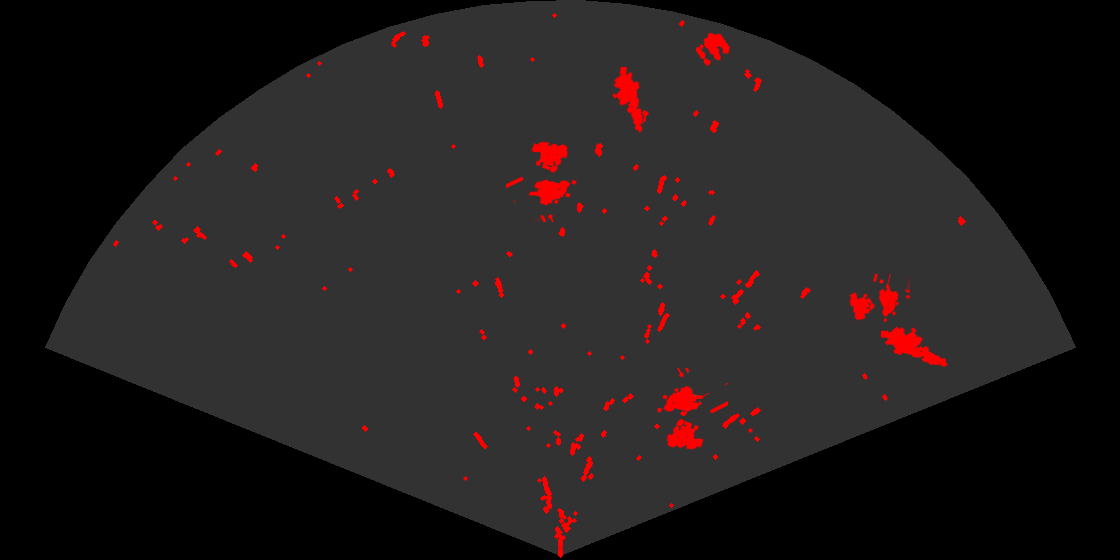ball: (694, 31, 732, 67)
cage: (656, 368, 728, 451), (506, 140, 578, 222), (848, 274, 910, 324)
frogman: (881, 325, 949, 368), (610, 67, 645, 133)
